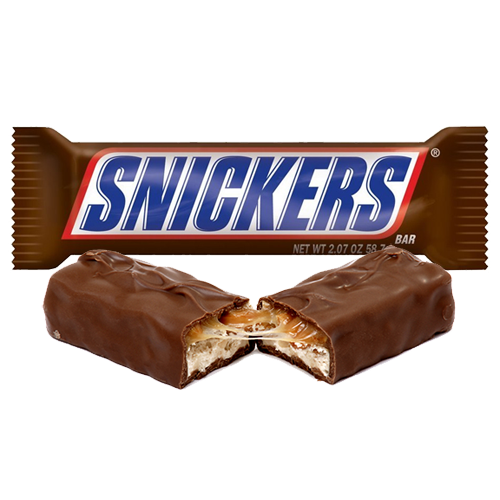snickers: (80, 152, 414, 232)
